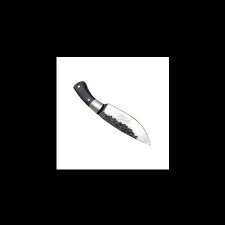k1: (93, 100, 152, 146)
